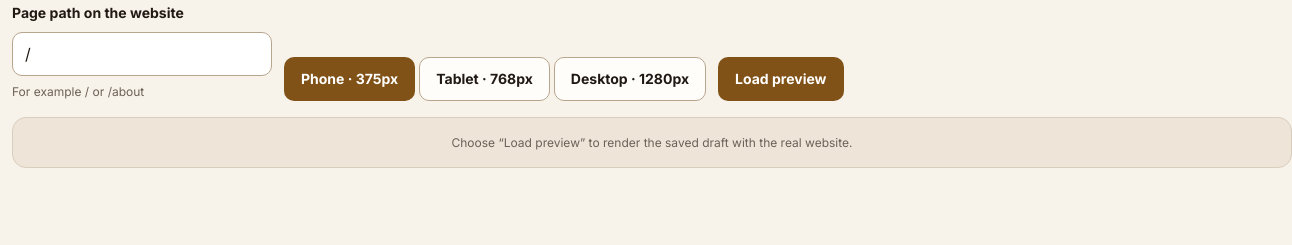
Test case: Studio preview › refuses an unsafe page path instead of framing it
This screenshot has width=1292, height=245.
Replace the text in the field labelled "Page path on the website" with "//evil.example": (142, 54) [12, 32, 272, 76]
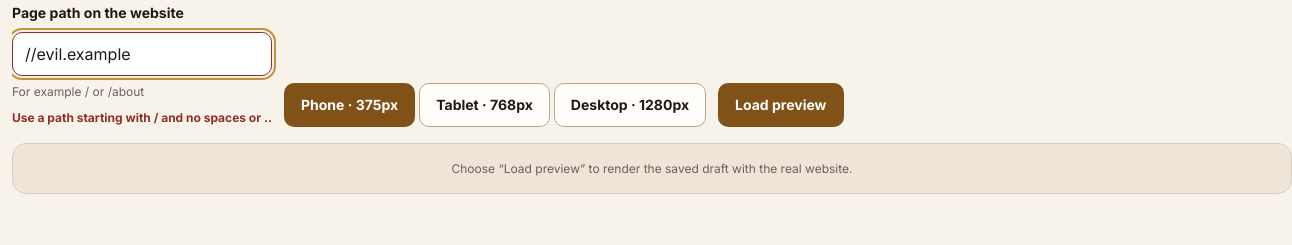
Click the button "Load preview": (781, 105) [718, 83, 844, 127]
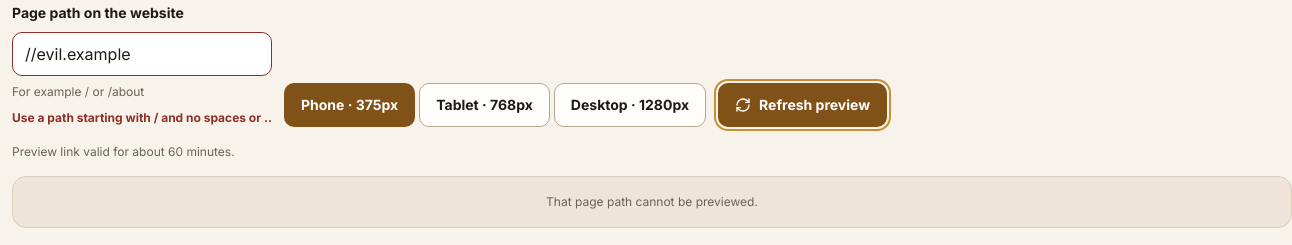
Now the text "That page path cannot be previewed." is shown, box [546, 193, 758, 211]
